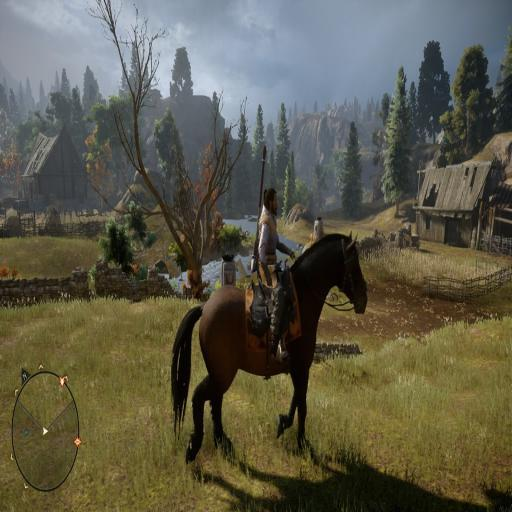Horse: (168, 229, 370, 466)
